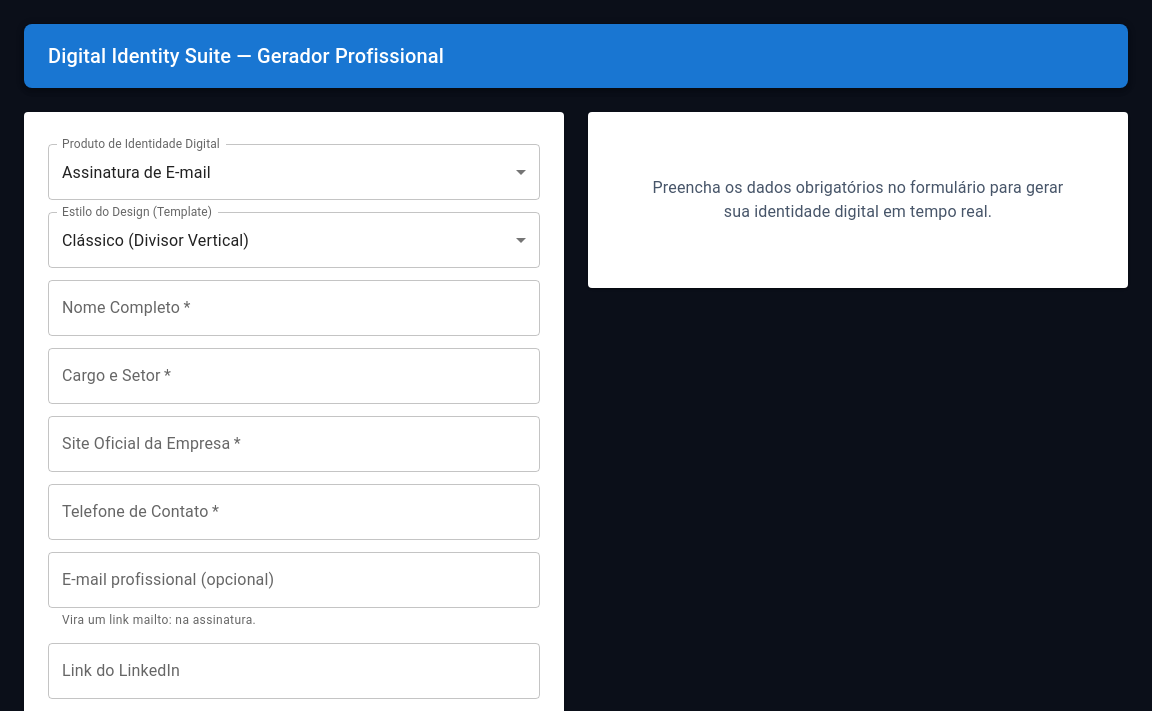
Test: PNG e limite do Gmail › não mostra o tamanho do Gmail no crachá
In the field labelled "Nome Completo *": (294, 308) [48,280,540,336], type "Ada Lovelace"
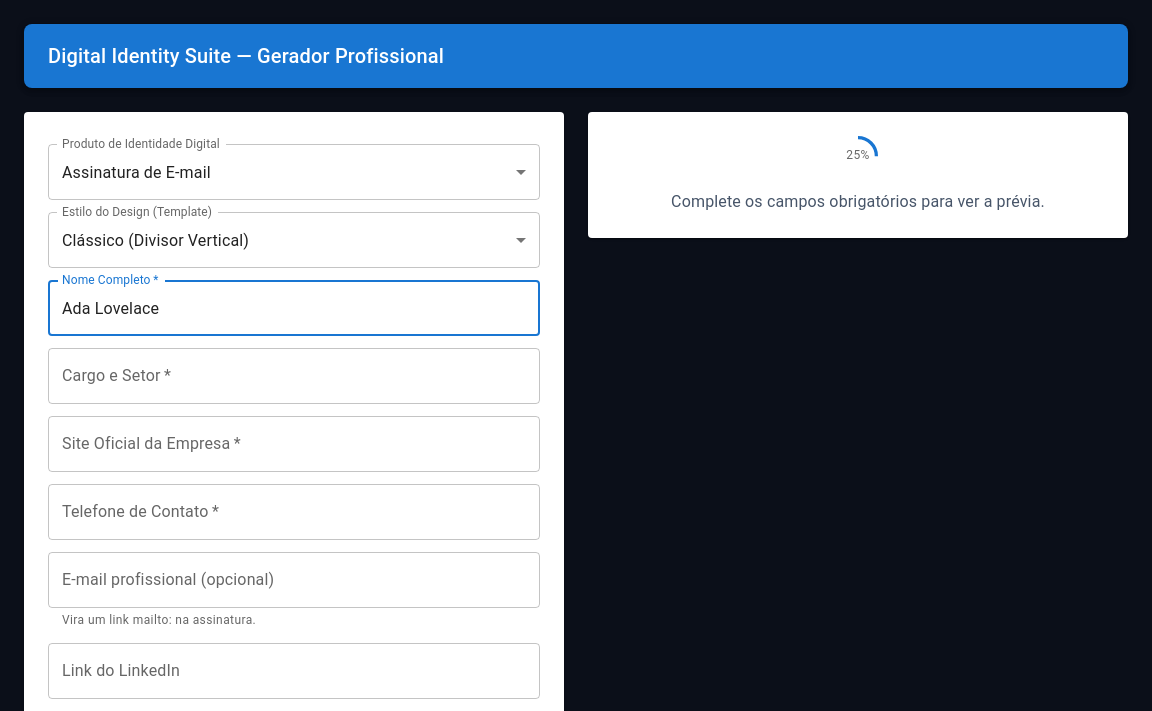
In the field labelled "Cargo e Setor *": (294, 376) [48,348,540,404], type "Engenheira"
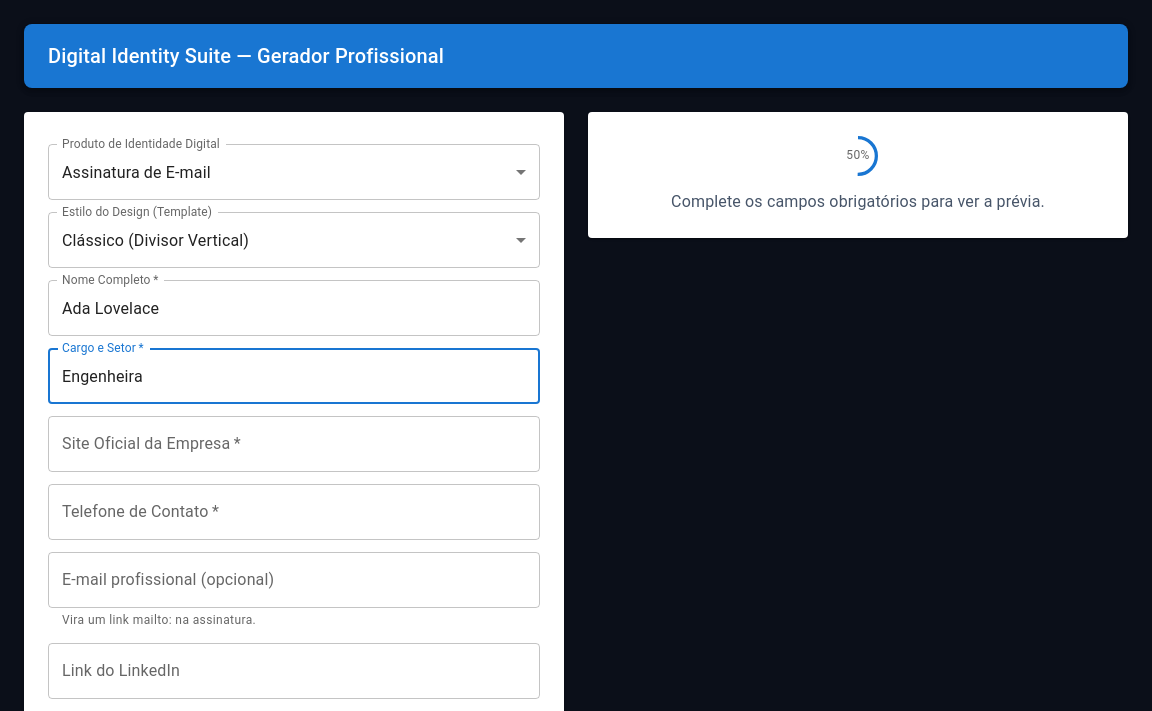
In the field labelled "Site Oficial da Empresa *": (294, 444) [48,416,540,472], type "empresa.com.br"
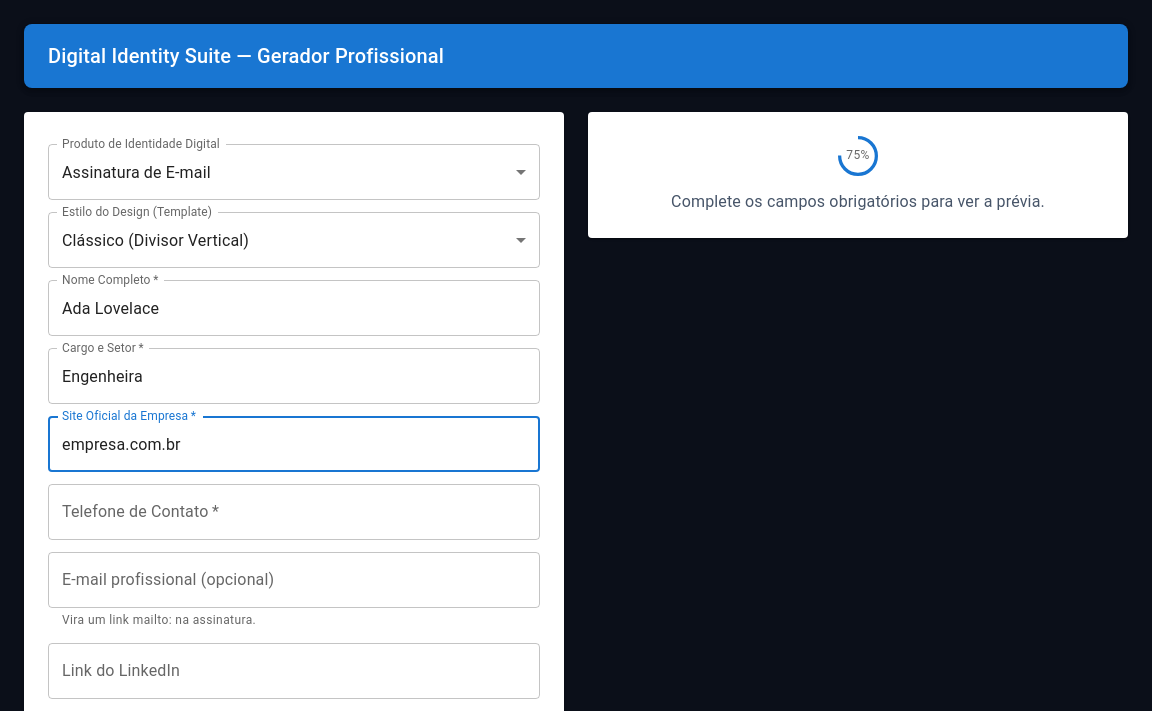
In the field labelled "Telefone de Contato *": (294, 512) [48,484,540,540], type "11 98888-7777"
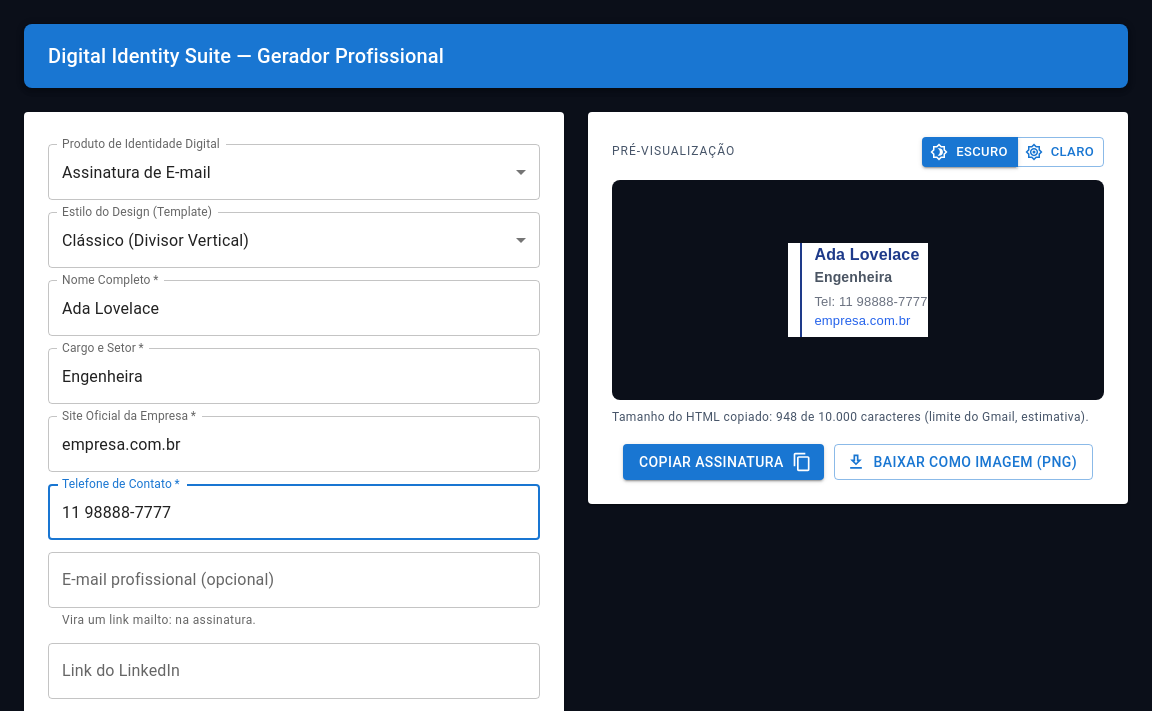
Replace the text in the field named "productType" with "digital-badge": (294, 172) [48,144,540,200]
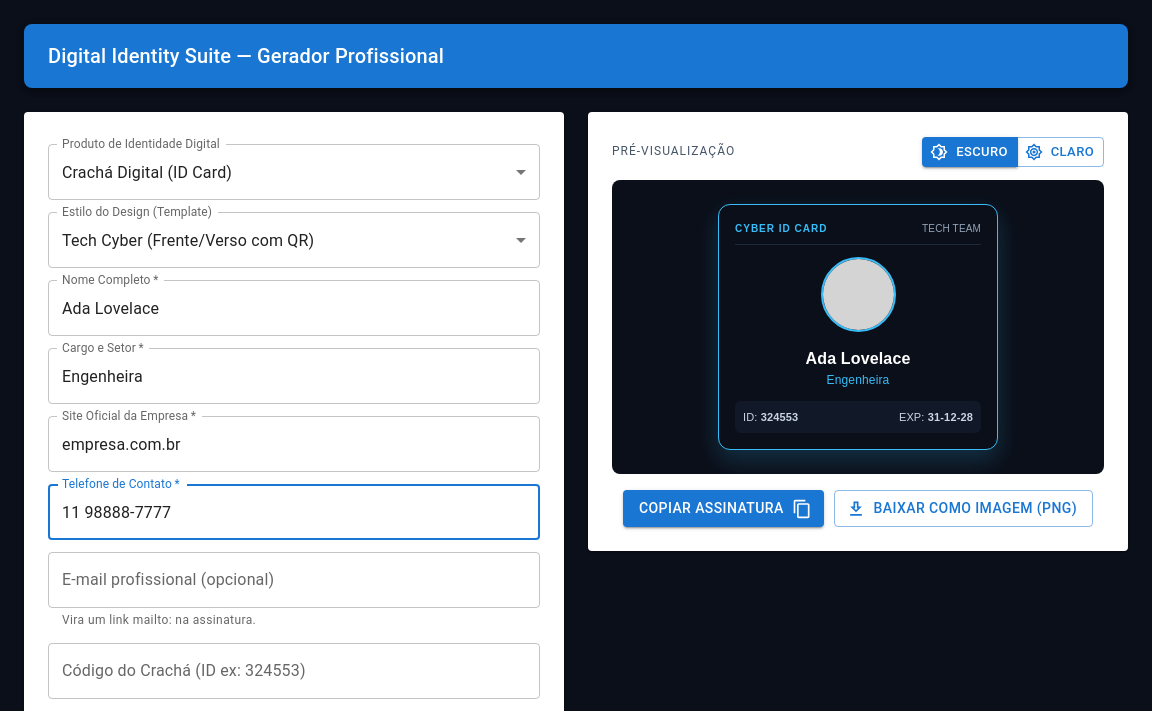
Result: the text "Tamanho do HTML copiado" is gone
